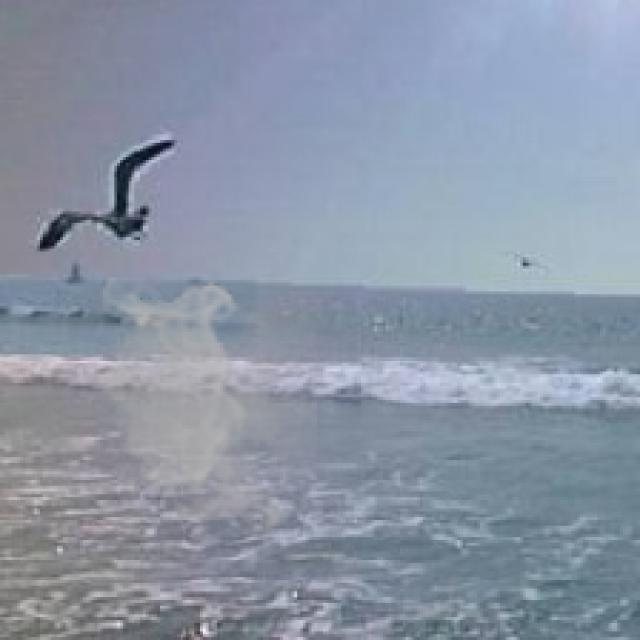smoke: (89, 277, 317, 540)
